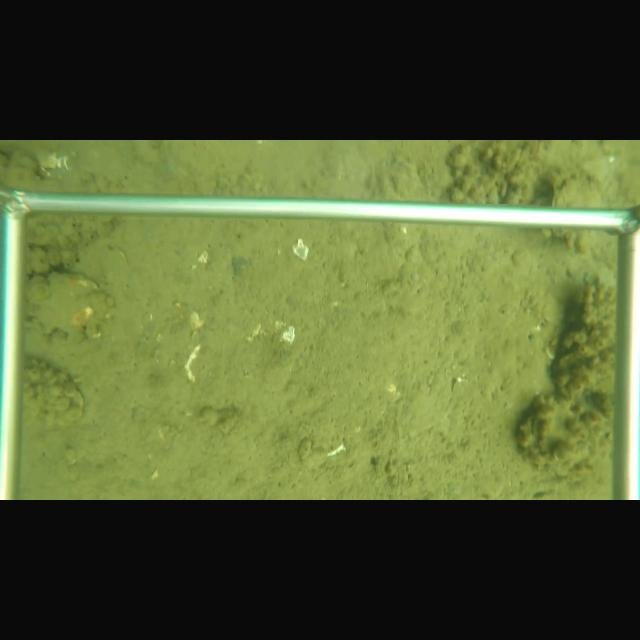Oyster-Closed: (23, 355, 87, 427), (548, 178, 600, 207)
